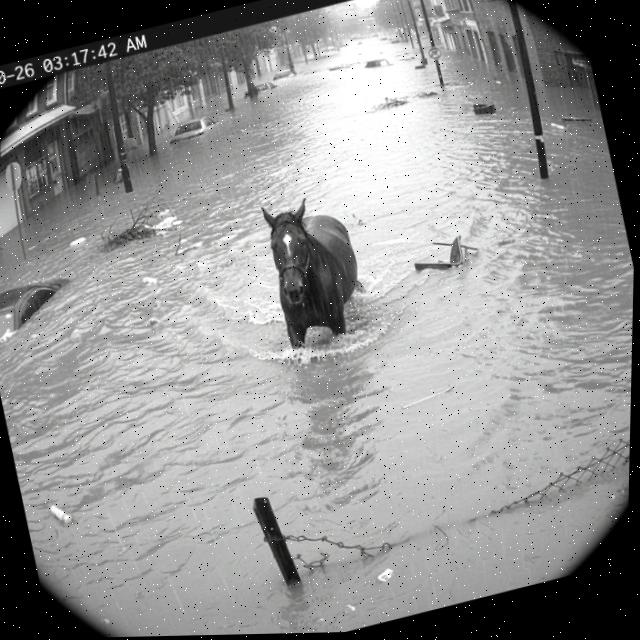horse: (235, 172, 394, 373)
